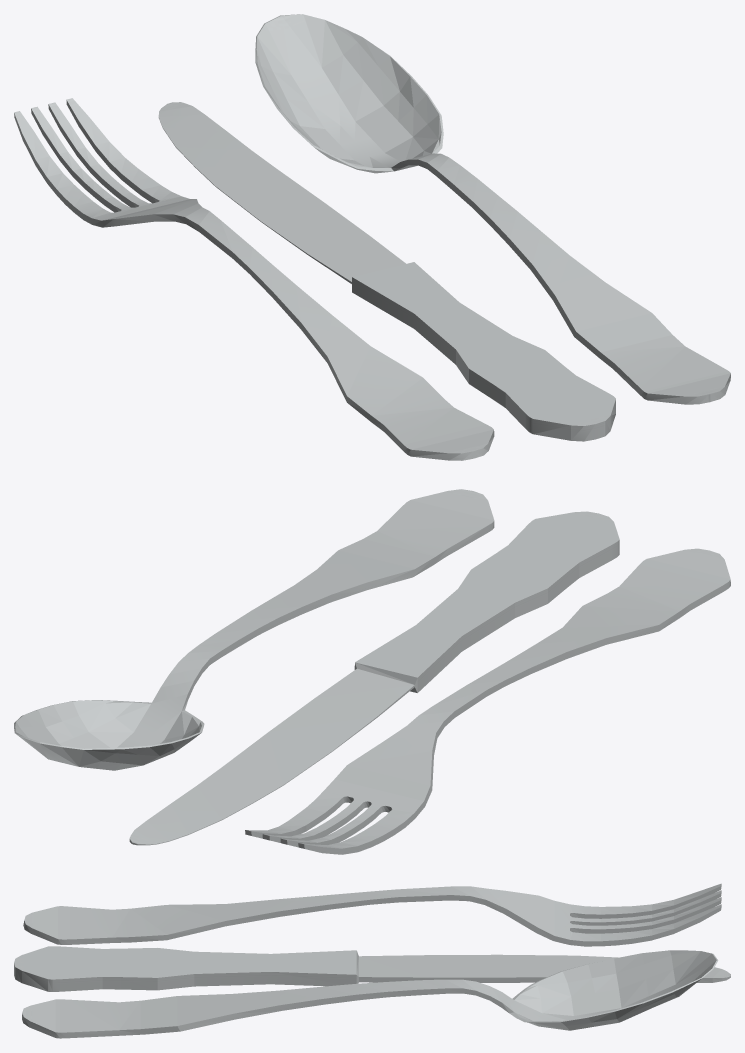
File: plaggy_cc0-cutlery-515.glb
The picture shows the model from 3 angles, top to bottom: view 1: azimuth 30°, elevation 25°; view 2: azimuth 150°, elevation 25°; view 3: azimuth 270°, elevation 25°; orthographic projection. The views are drawn at different scales.
Parts seen in each view (by area): view 1: Spoon002, Knife001, Fork002; view 2: Knife001, Spoon002, Fork002; view 3: Spoon002, Fork002, Knife001.
Part boxes in pixels (x1,y1,x2,y2): Spoon002: [255, 14, 730, 404]; Knife001: [158, 102, 615, 441]; Fork002: [14, 98, 494, 460]; Knife001: [129, 511, 619, 845]; Spoon002: [14, 489, 494, 770]; Fork002: [245, 548, 730, 854]; Spoon002: [22, 950, 718, 1038]; Fork002: [23, 883, 721, 946]; Knife001: [14, 946, 730, 991].
Size of the model in its own units: 7.61 by 1.61 by 16.76.
Materials: 3 (3 with a texture image).
